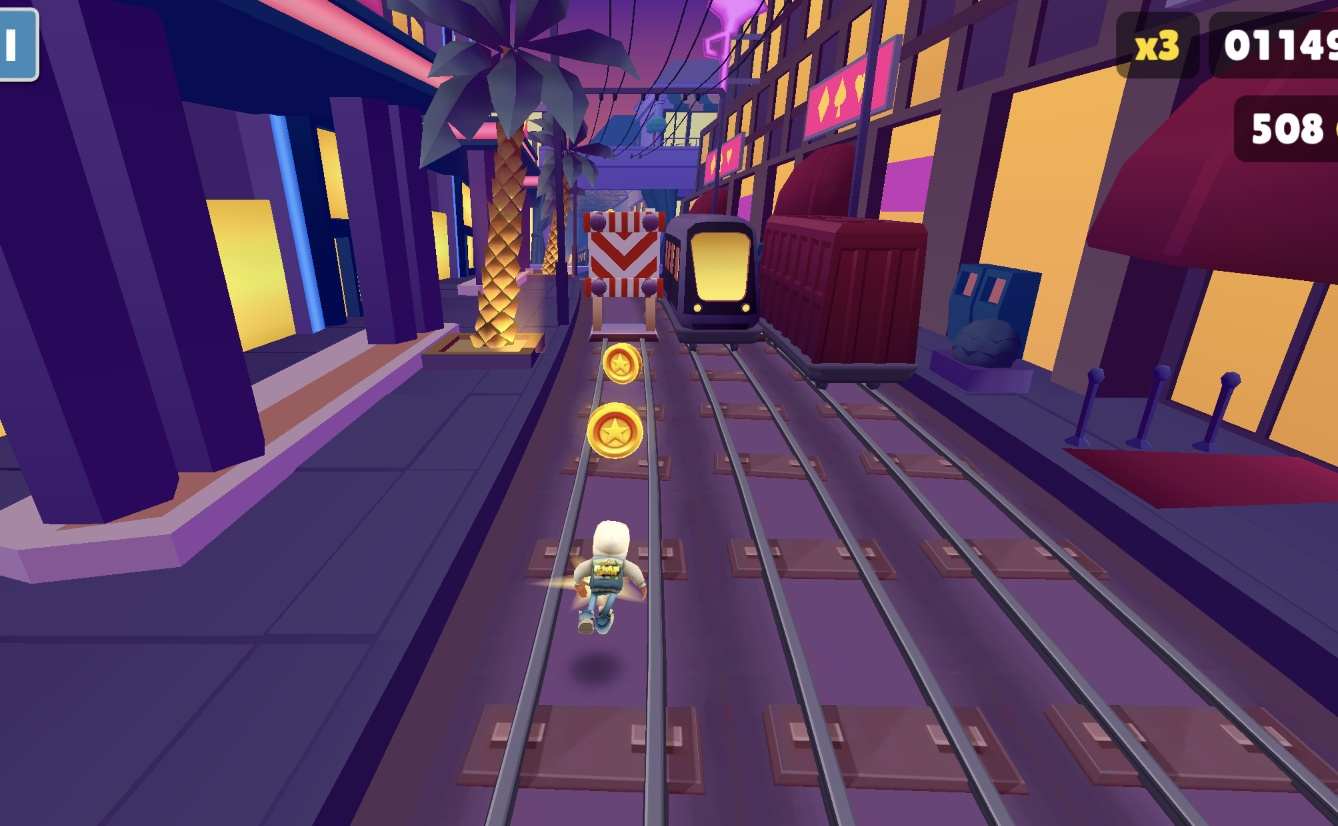overhead_barrier: (584, 210, 664, 342)
train: (756, 217, 926, 364), (667, 217, 764, 344)
